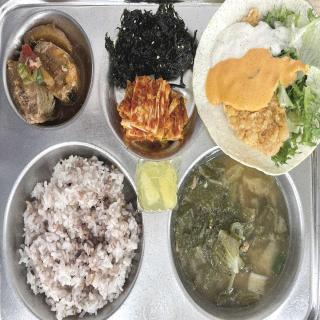Nasi: (17, 143, 138, 320)
